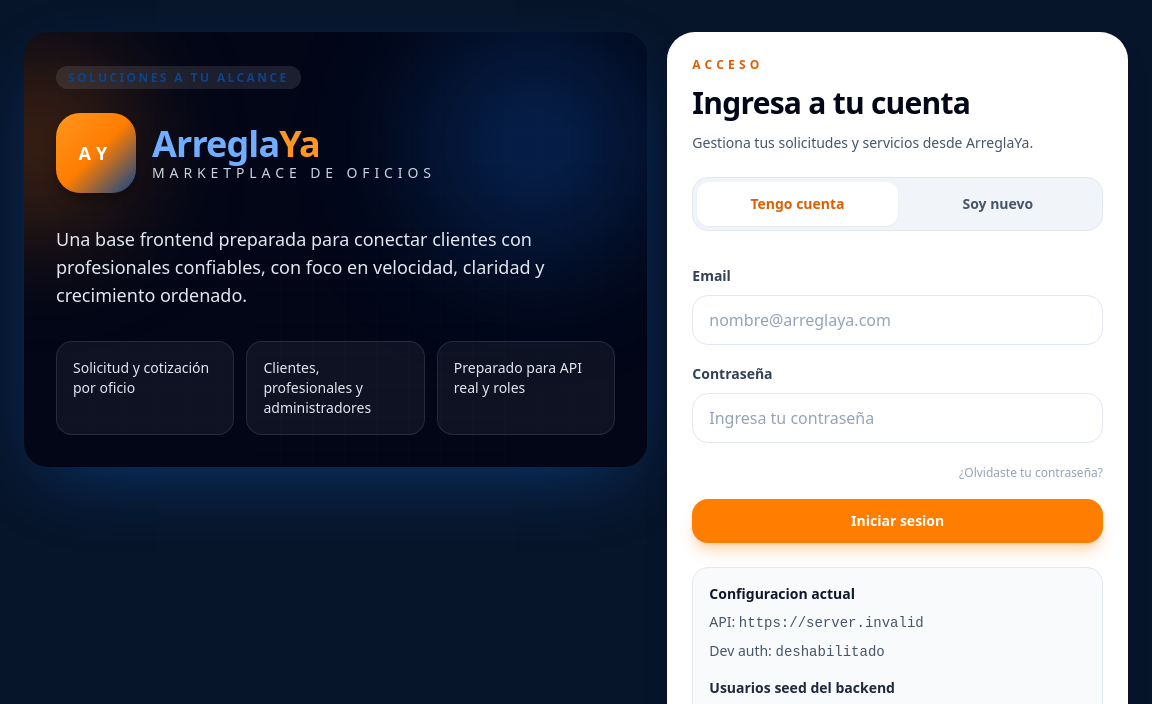
LoginPage › limpia la contraseña cuando el login falla
This screenshot has width=1152, height=704.
In the field with placeholder "nombre@arreglaya.com": (898, 320) [692, 295, 1103, 345], type "cliente@arreglaya.com"
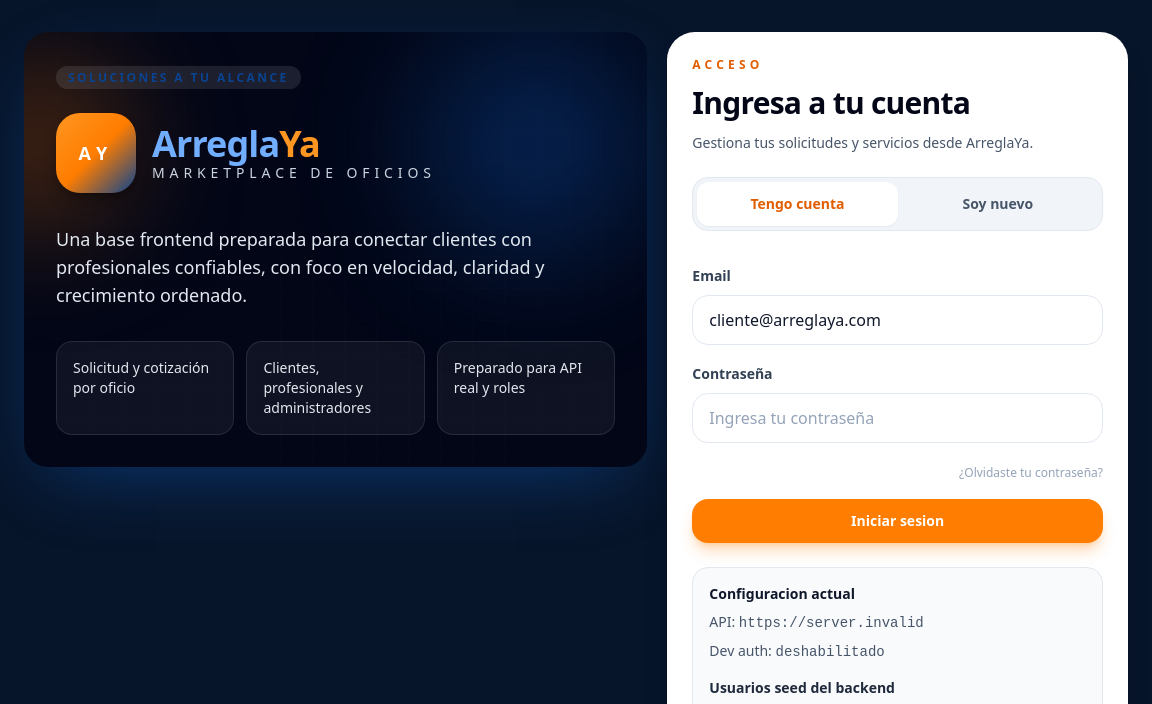
In the password field with placeholder "Ingresa tu contraseña": (898, 418) [692, 393, 1103, 443], type "123456"
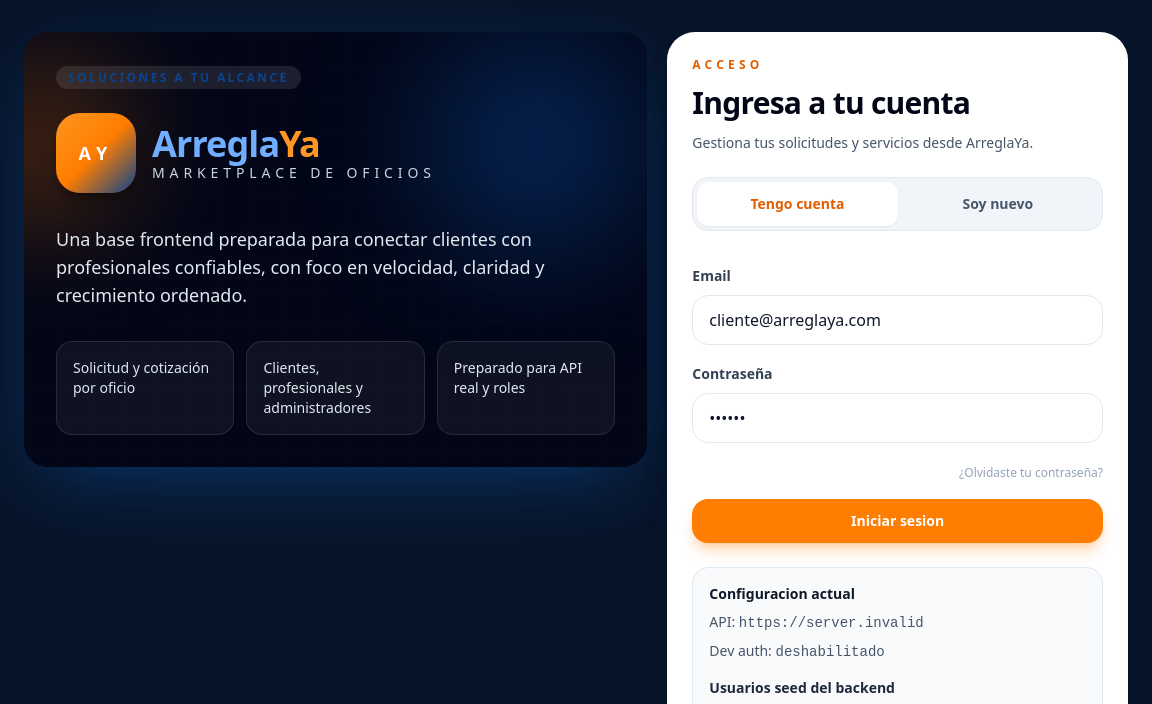
Click the button "Iniciar sesion": click(898, 521) [692, 499, 1103, 543]
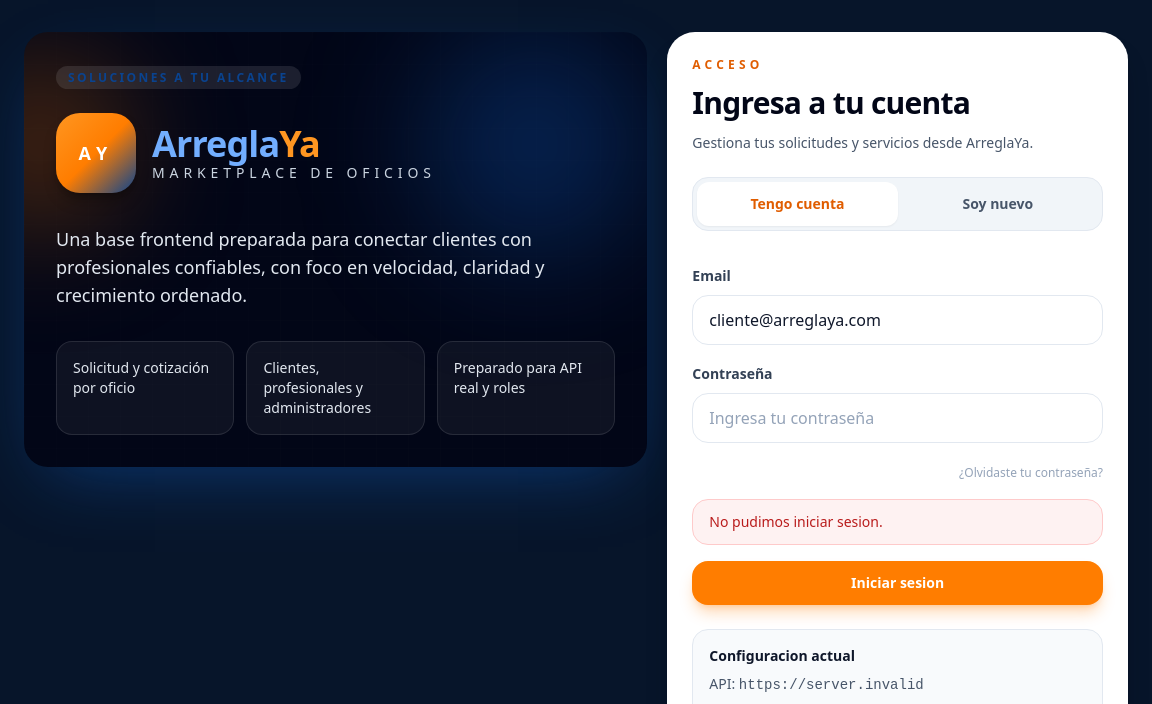
Result: the text "No pudimos iniciar sesion." is shown at [692, 499, 1103, 545]
Result: the password field with placeholder "Ingresa tu contraseña" is empty at [692, 393, 1103, 443]
